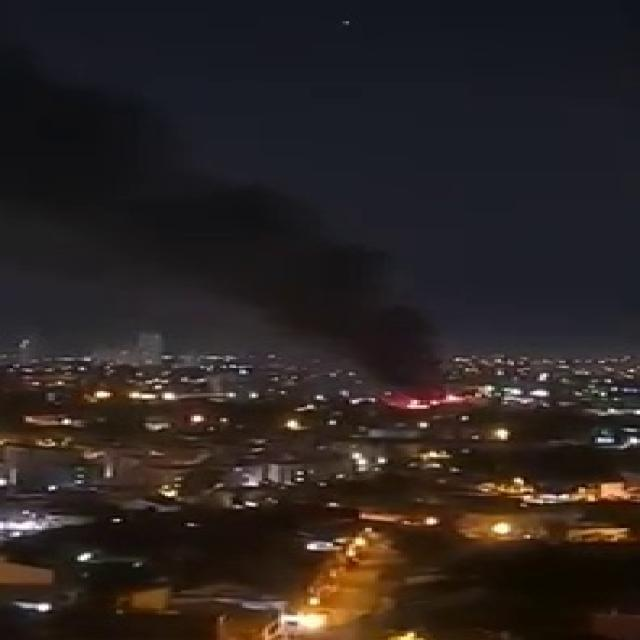Fire: (399, 398, 468, 408)
Smoke: (0, 64, 503, 394)
